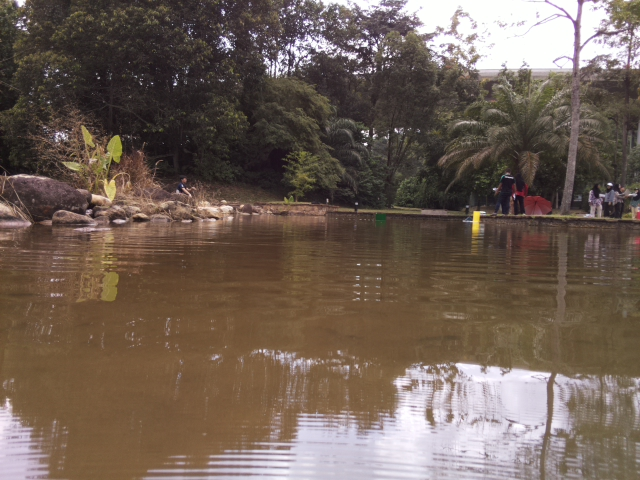obstacle: (374, 212, 387, 221)
